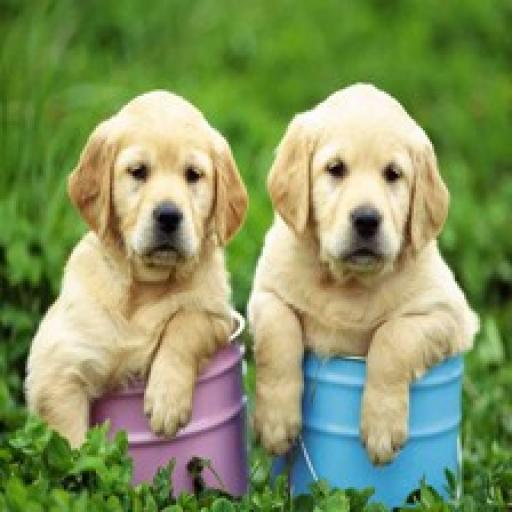dog: (245, 81, 479, 471), (22, 86, 252, 453)
